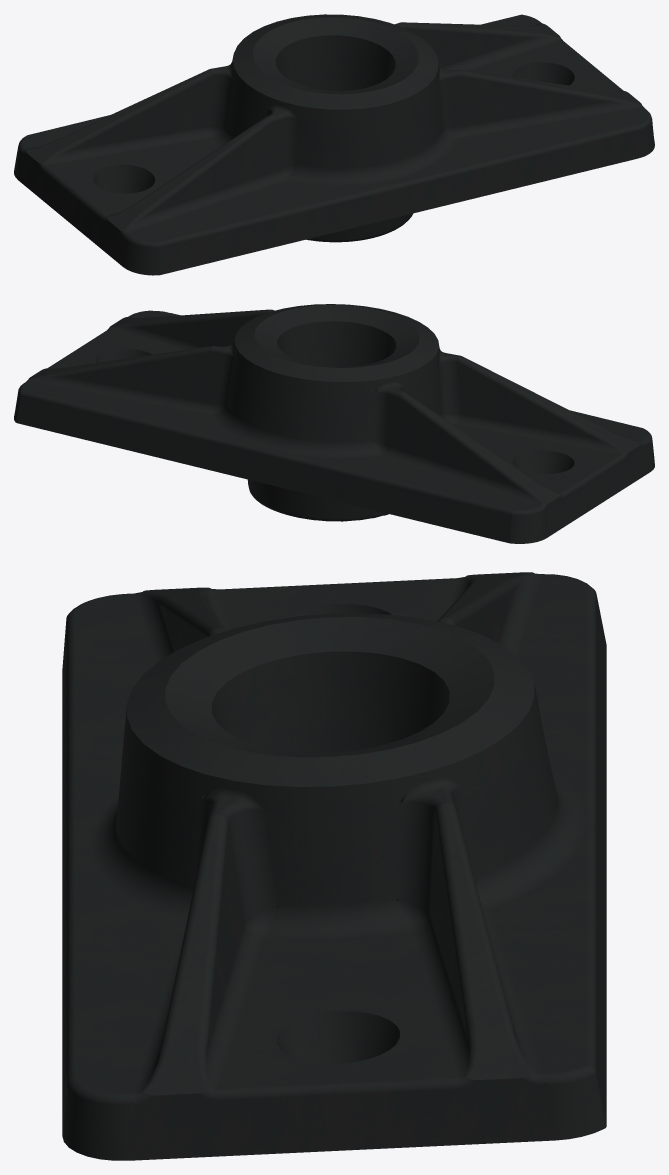
Rendered from Ancoragem.glb.
3 views of the same model, one above another, from view 1: azimuth 30°, elevation 25°; view 2: azimuth 150°, elevation 25°; view 3: azimuth 270°, elevation 25° (orthographic). The views are drawn at different scales.
Parts seen in each view (by area): view 1: Ancoragem 0.5; view 2: Ancoragem 0.5; view 3: Ancoragem 0.5.
Part boxes in pixels (x1=…): Ancoragem 0.5: x1=14, y1=14, x2=654, y2=275; Ancoragem 0.5: x1=14, y1=304, x2=654, y2=543; Ancoragem 0.5: x1=62, y1=572, x2=606, y2=1160.
Bounding box in the file's own units: 5.37 × 1.55 × 2.41.
Materials: 1 (1 with a texture image).
